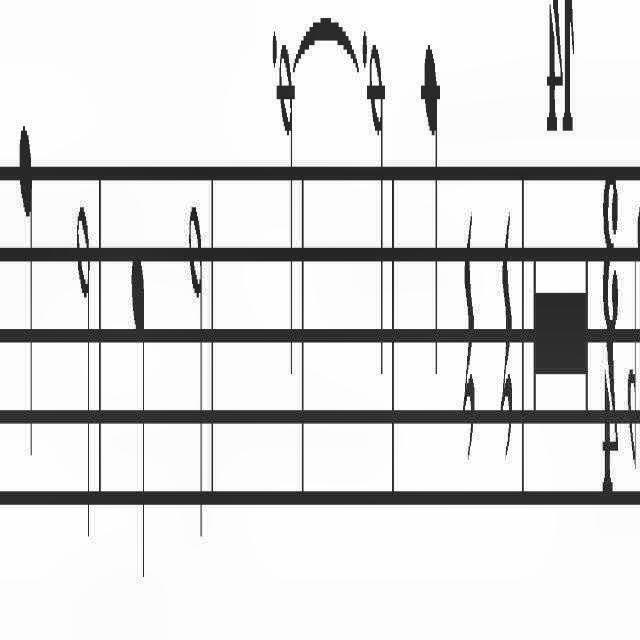Bemol: (627, 248, 637, 476), (638, 77, 640, 316)
Half-note: (366, 28, 386, 390), (187, 192, 205, 552), (276, 39, 294, 387), (76, 192, 92, 548)
Quarter-note: (420, 29, 442, 384), (130, 232, 146, 596), (18, 110, 34, 474)
Quarter-rest: (499, 200, 513, 468), (462, 198, 474, 458)
